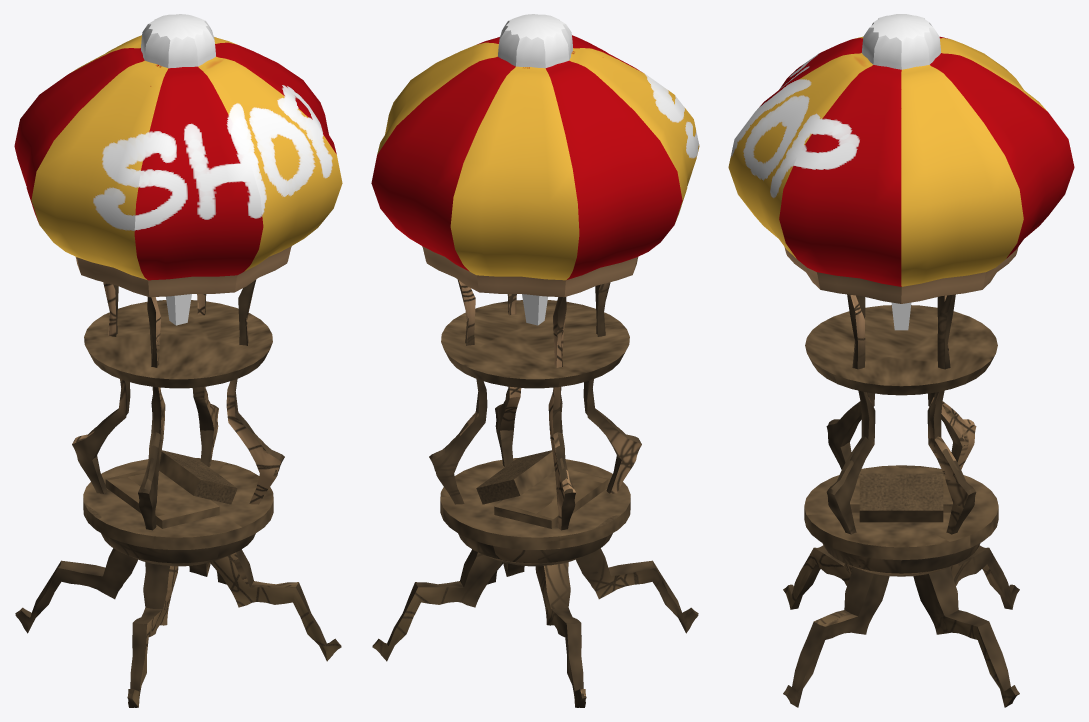
File: shop.fbx
3 renders of one model, left to right at view 1: azimuth 30°, elevation 25°; view 2: azimuth 150°, elevation 25°; view 3: azimuth 270°, elevation 25°, orthographic.
Visible parts, largest first — view 1: Cube; view 2: Cube; view 3: Cube.
Boxes of the visible parts, x1,y1,x2,y2 form: Cube: (14,14,342,707); Cube: (371,14,699,707); Cube: (728,14,1074,707).
Size of the model in its own units: 200 by 407 by 200.
Materials: 3 (3 with a texture image).
